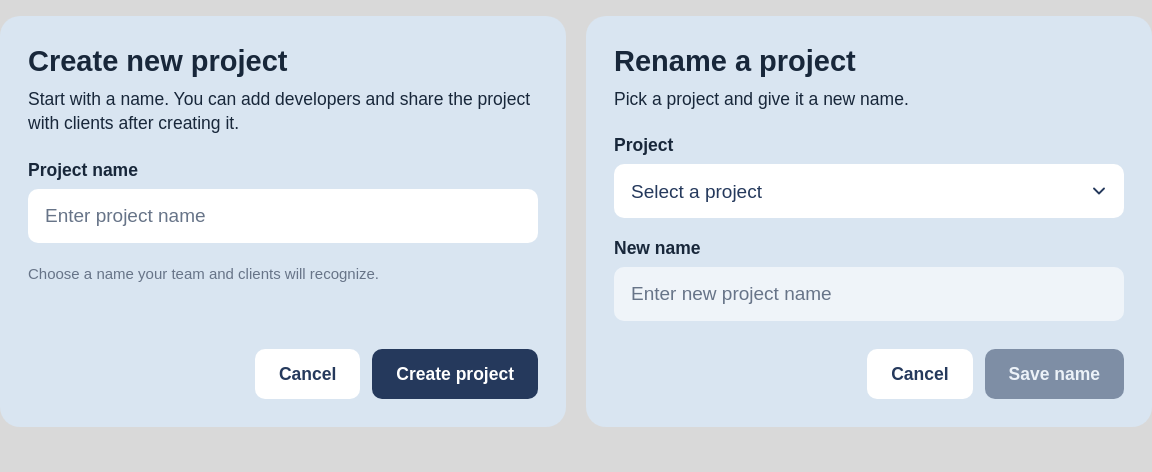
Test: Creating projects › shows an error when project creation fails
Step 1. Type "New Project" into the field labelled "Project name" → coordinates (283, 216), box [28,189,538,243]
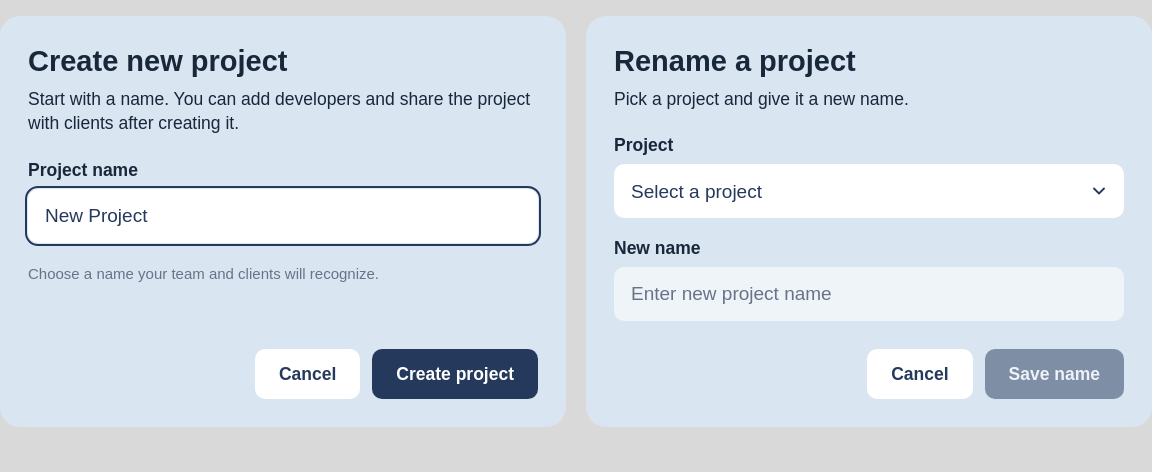
Step 2. Click the button "Create project" → coordinates (455, 374), box [372,349,538,399]
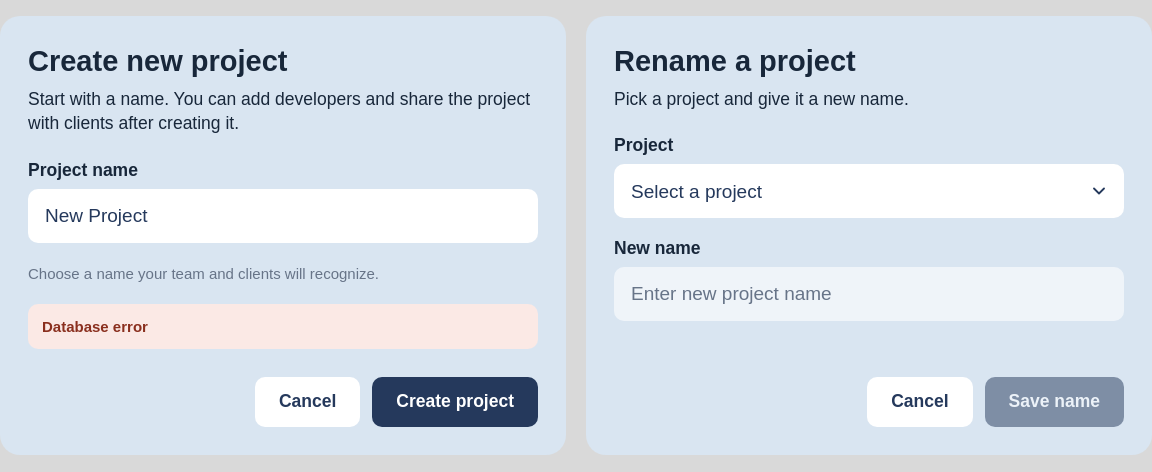
Expected: the message reads "Database error", [42,318,148,335]
